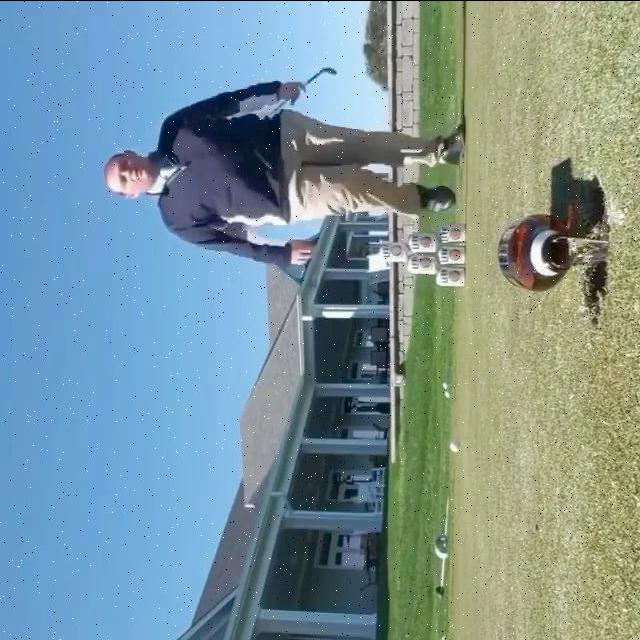ClubHandle: (271, 65, 338, 115)
ClubHead: (322, 65, 337, 76)
GolfBall: (451, 440, 460, 451), (445, 390, 451, 397), (443, 381, 448, 388)
